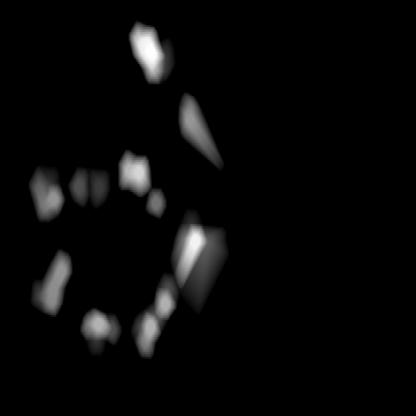fingers: (127, 20, 164, 83)
palm: (26, 167, 118, 344), (31, 273, 175, 355)
thumb: (119, 91, 226, 273)
